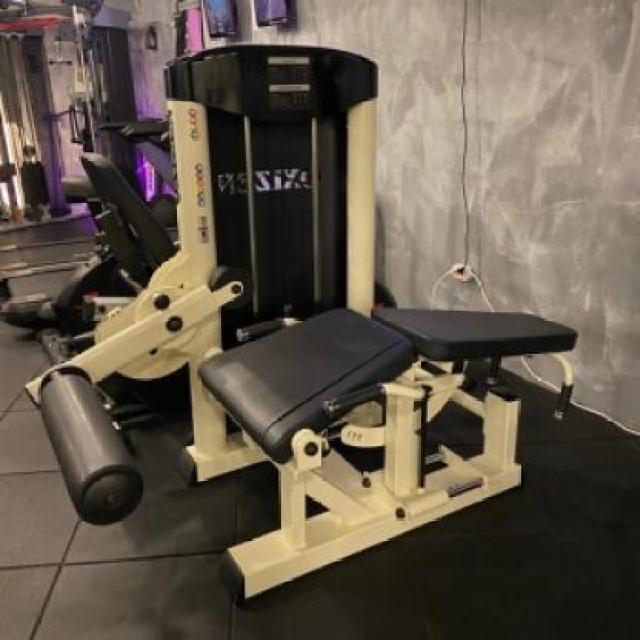reg curl machine: (20, 37, 583, 605)
